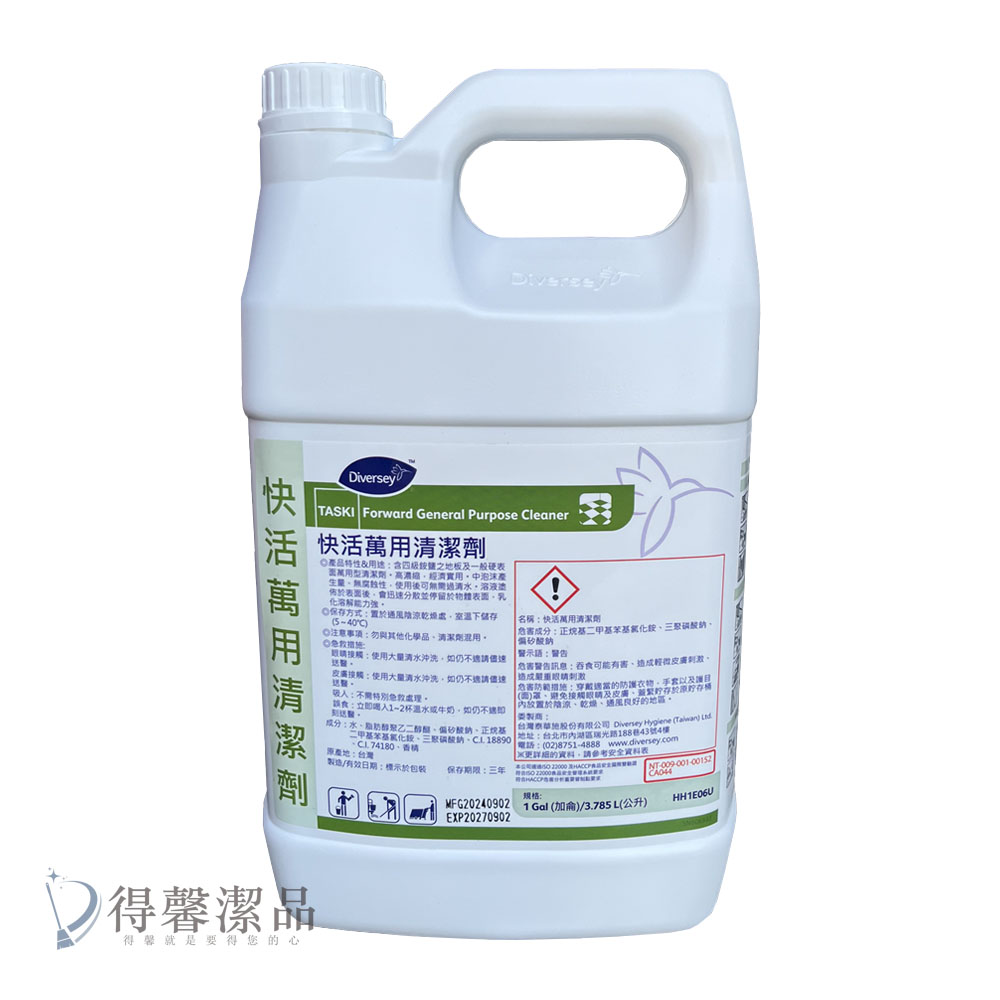cleaner: (217, 48, 768, 945)
